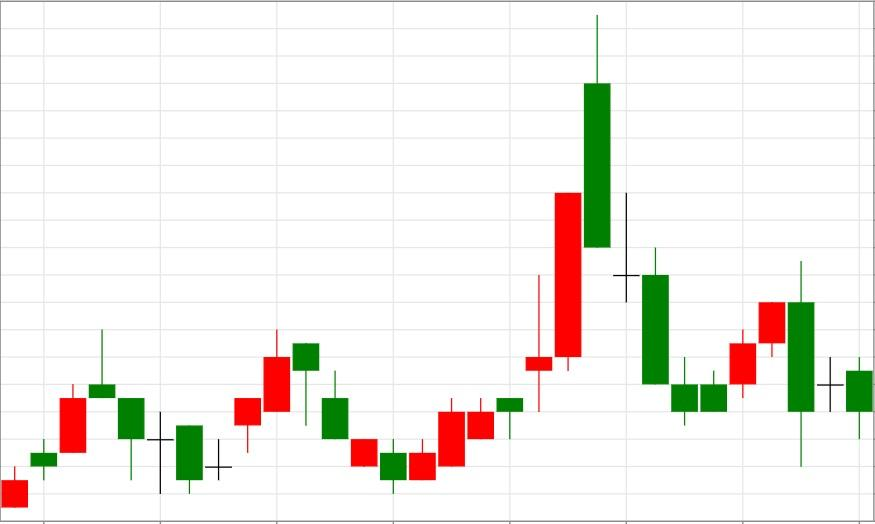bearish_engulfing_fall: (670, 262, 815, 467)
hanging_man_fall: (175, 329, 320, 493)
